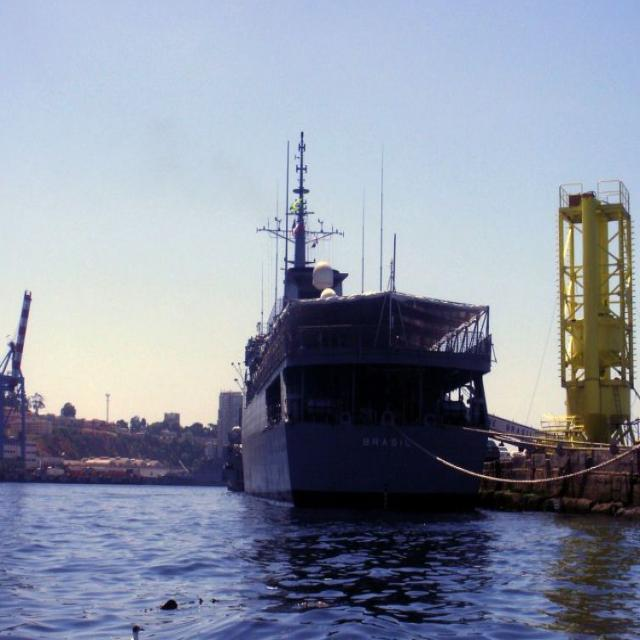Fragata: (232, 101, 504, 519)
